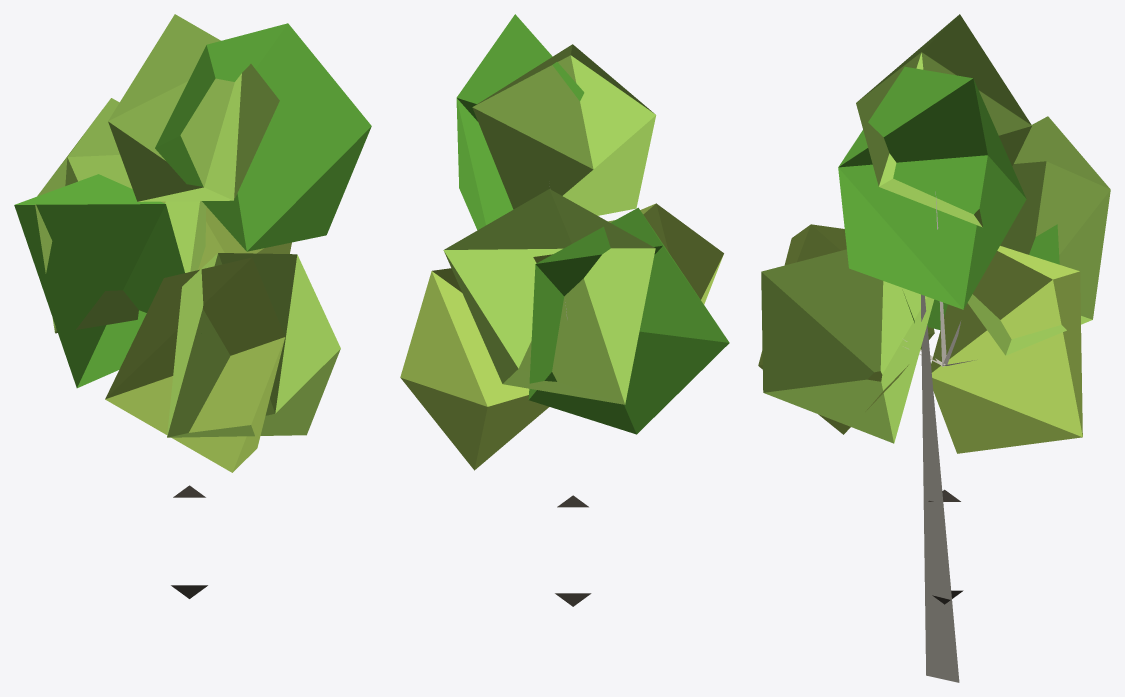
The model's file is tree_birch_2_lod2.glb.
3 renders of one model, left to right at view 1: azimuth 30°, elevation 25°; view 2: azimuth 150°, elevation 25°; view 3: azimuth 270°, elevation 25°, orthographic. The views are drawn at different scales.
Parts seen in each view (by area): view 1: tree_birch_2_lod2; view 2: tree_birch_2_lod2; view 3: tree_birch_2_lod2.
Part boxes in pixels (<box>): tree_birch_2_lod2: <box>14,14,371,598</box>; tree_birch_2_lod2: <box>400,14,729,606</box>; tree_birch_2_lod2: <box>758,14,1110,682</box>.
Size of the model in its own units: 3.43 by 7.45 by 3.59.
